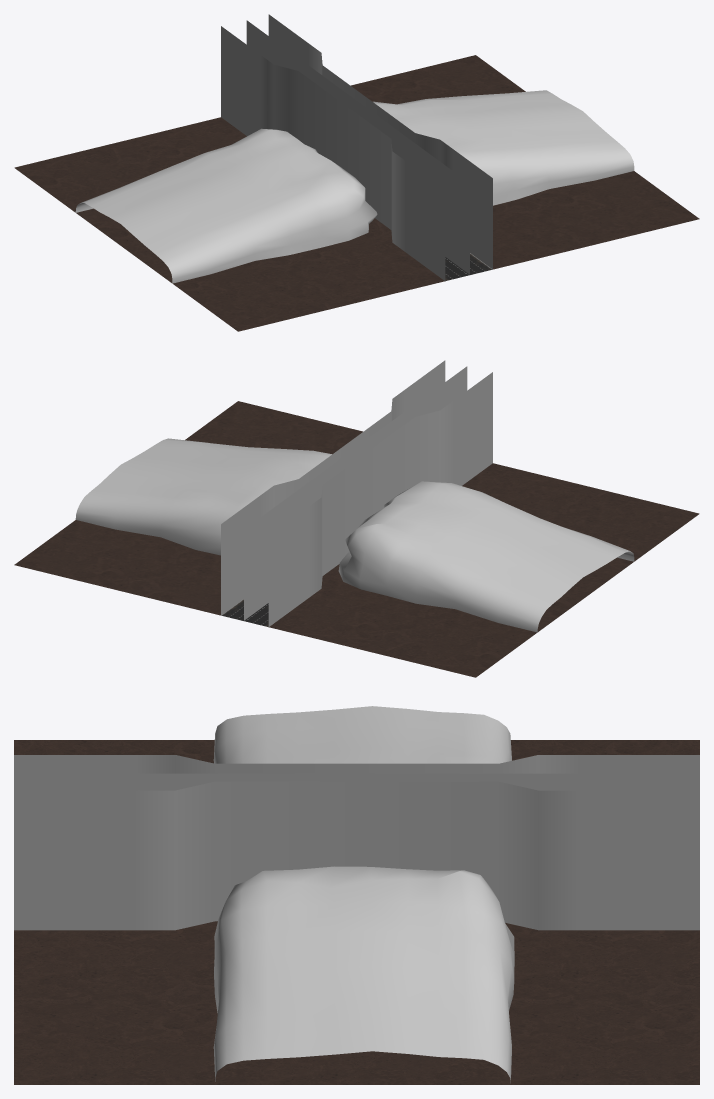
Rendered from Track_C.fbx.
3 renders of one model, top to bottom at view 1: azimuth 30°, elevation 25°; view 2: azimuth 150°, elevation 25°; view 3: azimuth 270°, elevation 25°, orthographic. The views are drawn at different scales.
Visible parts, largest first — view 1: Cliff_C, Sand_C, Wall_C, AI_C, Road_C; view 2: Cliff_C, Sand_C, Wall_C, AI_C, Road_C; view 3: Wall_C, Sand_C, Cliff_C, AI_C.
Boxes of the visible parts, x1,y1,x2,y2 form: Cliff_C: (75,90,634,283); Sand_C: (14,55,699,331); Wall_C: (221,14,492,281); AI_C: (246,20,469,274); Road_C: (445,253,492,280); Cliff_C: (75,438,634,632); Sand_C: (14,401,699,677); Wall_C: (221,360,492,627); AI_C: (244,366,467,620); Road_C: (221,599,268,626); Wall_C: (14,755,699,930); Sand_C: (14,740,699,1084); Cliff_C: (213,706,514,1083); AI_C: (15,773,698,790).
Size of the model in its own units: 169 by 34.15 by 142.
